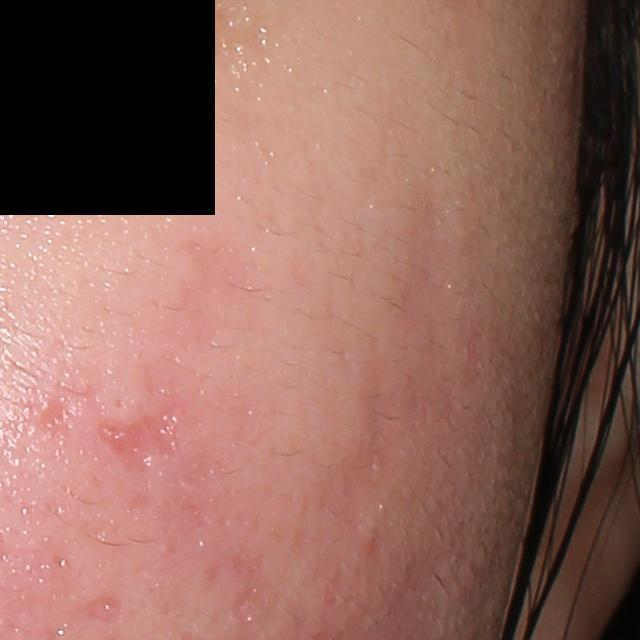atrophic_scar: (22, 388, 203, 498), (316, 365, 400, 586), (387, 186, 460, 343), (227, 584, 268, 625)
